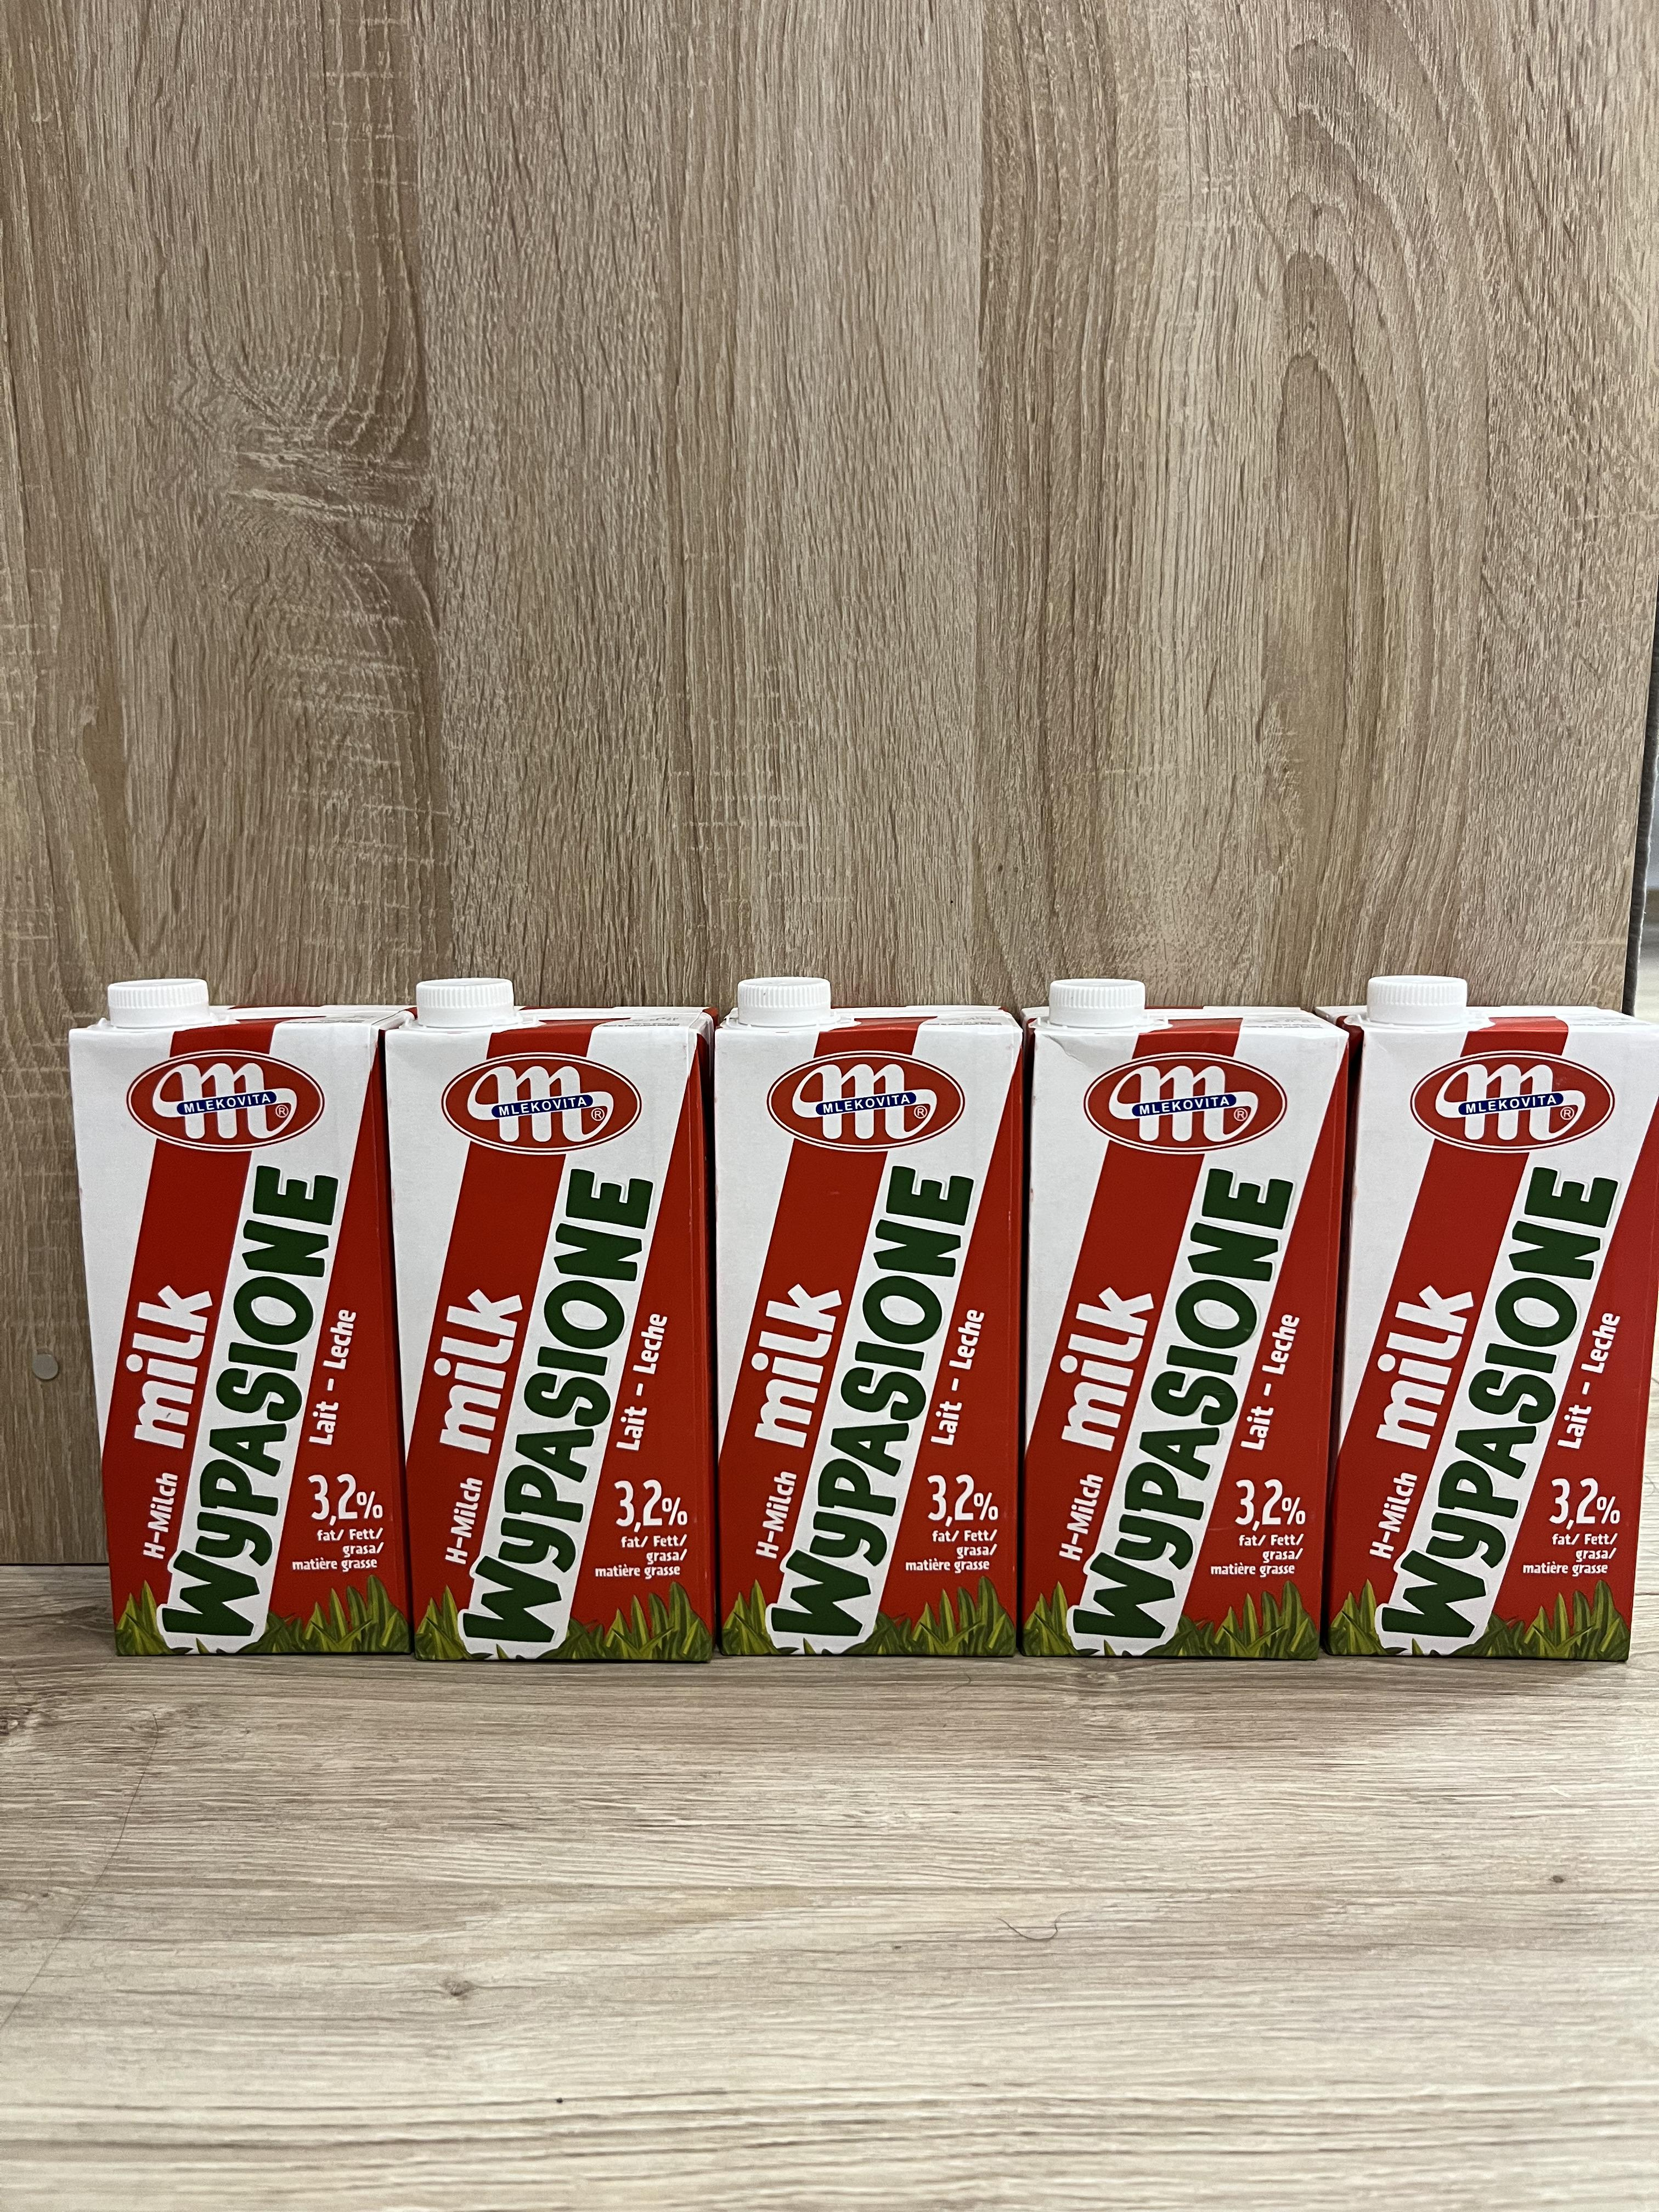Milk: (77, 1000, 415, 1669), (392, 1012, 713, 1681), (716, 1010, 1014, 1665), (1340, 1001, 1636, 1660), (1033, 1000, 1326, 1658)
